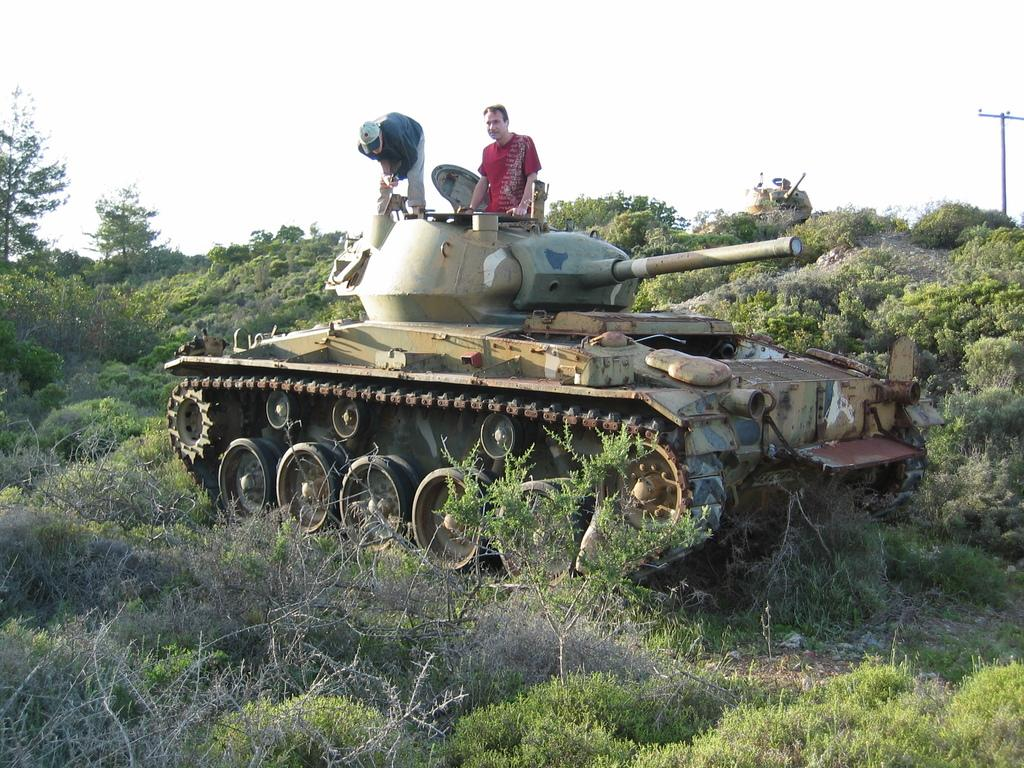Tank: (164, 163, 940, 589), (741, 170, 814, 227)
